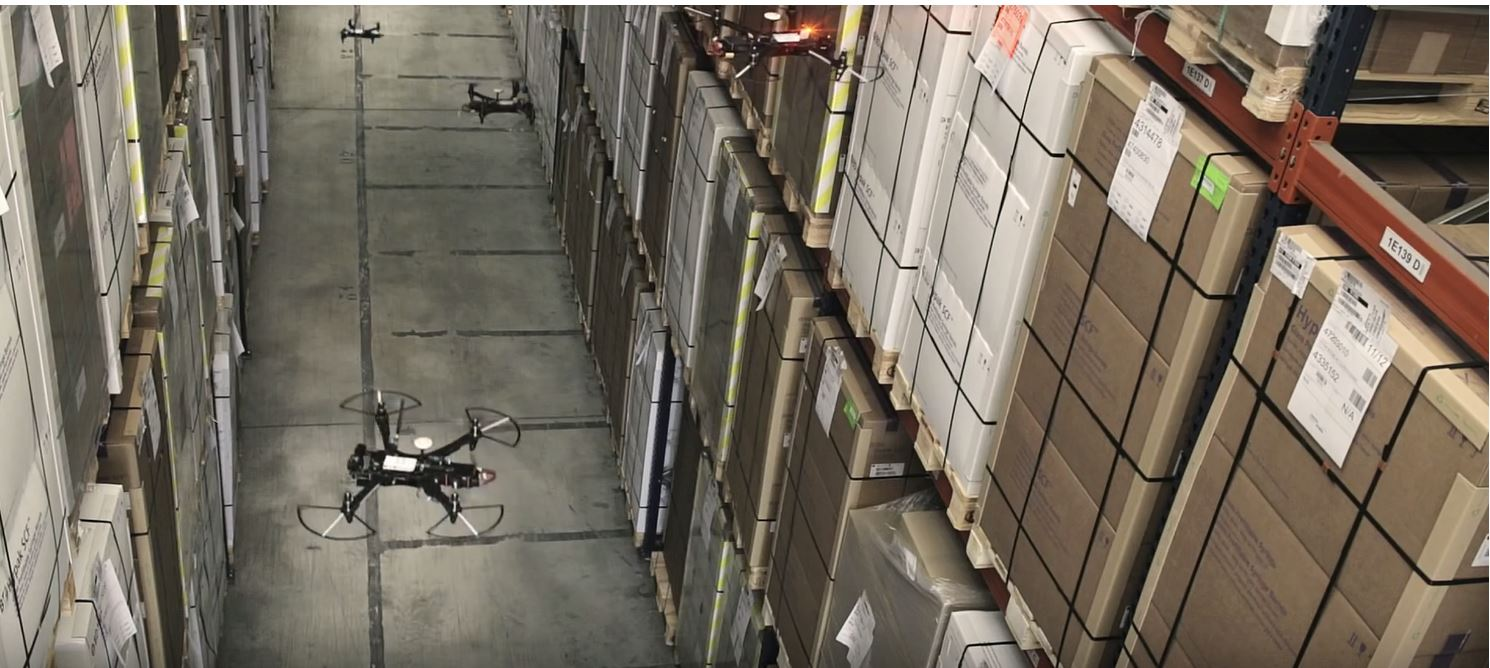drone: (297, 387, 526, 545), (673, 7, 887, 91), (453, 75, 552, 135), (324, 21, 391, 49)
